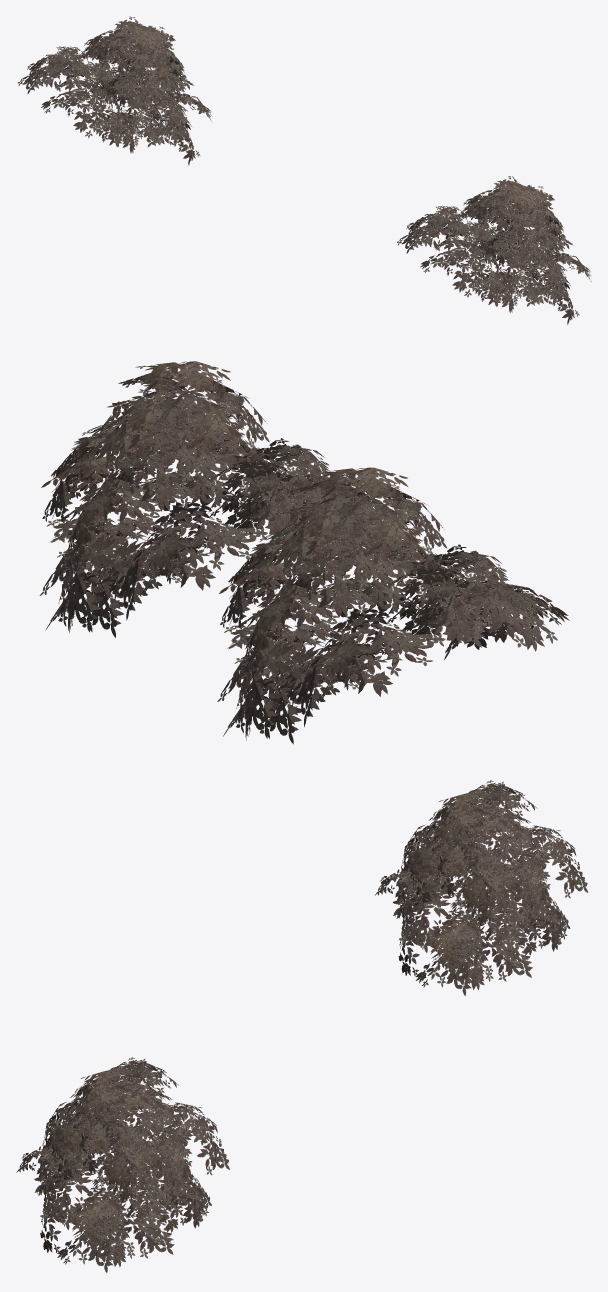
Rendered from Area06_25.fbx.
3 views of the same model, one above another, from view 1: azimuth 30°, elevation 25°; view 2: azimuth 150°, elevation 25°; view 3: azimuth 270°, elevation 25° (orthographic). The views are drawn at different scales.
Parts seen in each view (by area): view 1: Area06_25; view 2: Area06_25; view 3: Area06_25.
Boxes of the visible parts, <box> form: Area06_25: <box>17,16,591,324</box>; Area06_25: <box>39,361,569,744</box>; Area06_25: <box>16,780,588,1272</box>.
Size of the model in its own units: 1164 by 677 by 1155.
